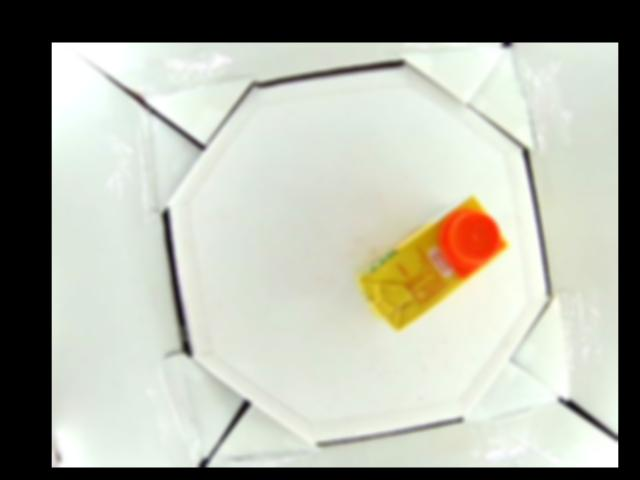Bottle: (357, 197, 511, 330)
